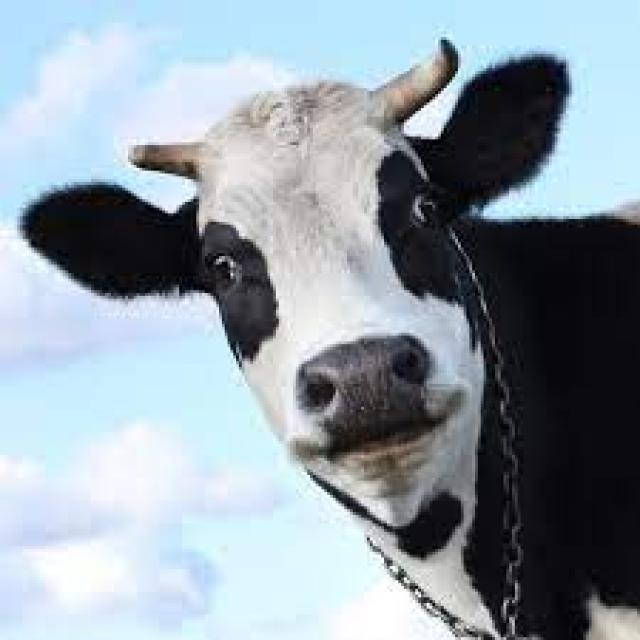cowFace: (23, 63, 589, 506)
